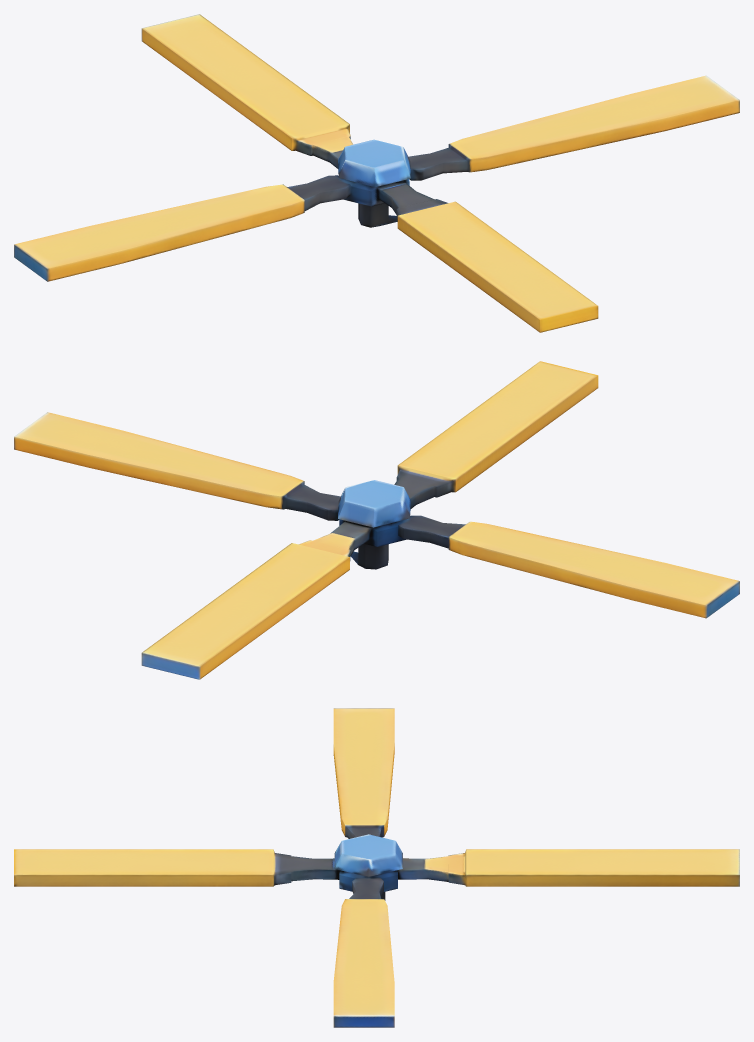
File: vain_ropeli.glb
3 views of the same model, one above another, from view 1: azimuth 30°, elevation 25°; view 2: azimuth 150°, elevation 25°; view 3: azimuth 270°, elevation 25° (orthographic). The views are drawn at different scales.
Parts seen in each view (by area): view 1: model; view 2: model; view 3: model.
Part boxes in pixels (x1=…): model: x1=14, y1=14, x2=739, y2=332; model: x1=14, y1=361, x2=739, y2=679; model: x1=14, y1=708, x2=739, y2=1027.
Size of the model in its own units: 1.54 by 0.1439 by 1.53.
Materials: 1 (1 with a texture image).
